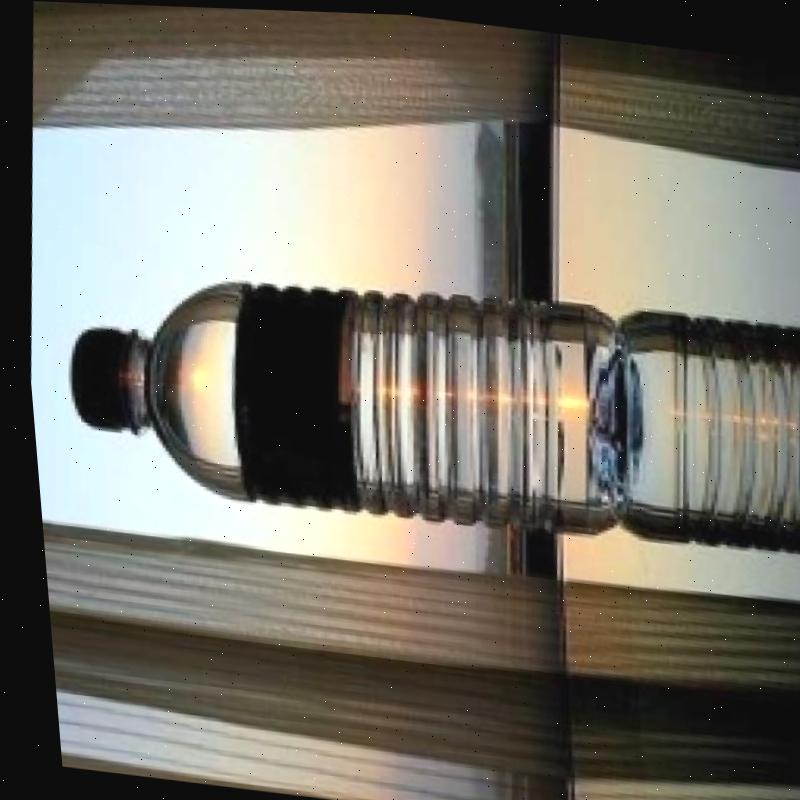botella: (46, 235, 644, 541)
